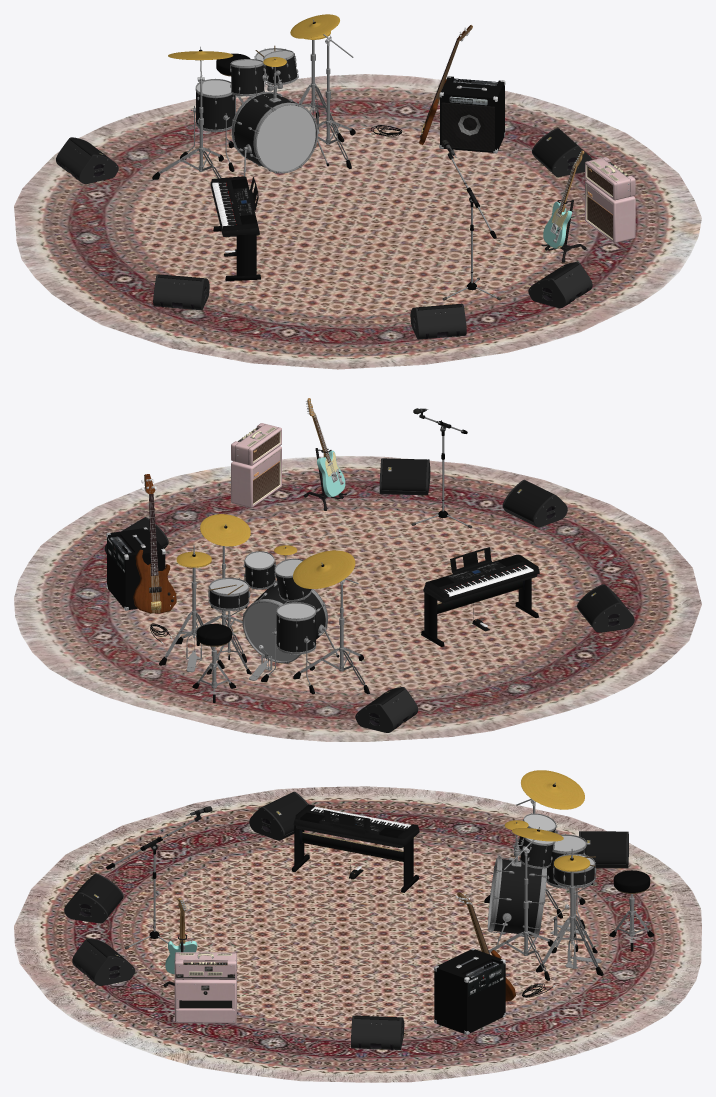
File: stage_resized_1024.glb
3 renders of one model, top to bottom at view 1: azimuth 30°, elevation 25°; view 2: azimuth 150°, elevation 25°; view 3: azimuth 270°, elevation 25°, orthographic. The views are drawn at different scales.
Visible parts, largest first — view 1: Object_2, Amp.HartkeHD75_0, Lid.004_40, Vox_Amp, monitor_speaker_lp_lambert2_0.002, monitor_speaker_lp_lambert2_0.003, monitor_speaker_lp_lambert2_0.001, monitor_speaker_lp, monitor_speaker_lp_lambert2_0.004, Bass_38, Guitar_Telecaster, Tom_Floor_5 (+7 smaller); view 2: Object_2, Vox_Amp, Amp.HartkeHD75_0, Bass.Aria_3, Lid.004_40, monitor_speaker_lp, monitor_speaker_lp_lambert2_0.003, monitor_speaker_lp_lambert2_0.002, monitor_speaker_lp_lambert2_0.001, Cymbal_Ride_8, Cymbal_Crash_14, Tom_Floor_5 (+14 smaller); view 3: Object_2, Amp.HartkeHD75_0, Vox_Amp, Bass_38, monitor_speaker_lp_lambert2_0.002, monitor_speaker_lp, Cymbal_Ride_8, monitor_speaker_lp_lambert2_0.004, monitor_speaker_lp_lambert2_0.001, monitor_speaker_lp_lambert2_0.003, Stand_Middle_low, Lid.004_40 (+10 smaller).
Boxes of the visible parts, bbox=[...] form: Object_2: bbox=[14, 74, 701, 369]; Amp.HartkeHD75_0: bbox=[439, 76, 505, 153]; Lid.004_40: bbox=[231, 91, 317, 173]; Vox_Amp: bbox=[585, 157, 635, 243]; monitor_speaker_lp_lambert2_0.002: bbox=[528, 262, 592, 308]; monitor_speaker_lp_lambert2_0.003: bbox=[56, 137, 118, 183]; monitor_speaker_lp_lambert2_0.001: bbox=[153, 274, 209, 310]; monitor_speaker_lp: bbox=[410, 303, 466, 339]; monitor_speaker_lp_lambert2_0.004: bbox=[532, 128, 592, 177]; Bass_38: bbox=[234, 93, 294, 167]; Guitar_Telecaster: bbox=[543, 150, 584, 248]; Tom_Floor_5: bbox=[196, 92, 235, 129]; Object_2: bbox=[14, 456, 701, 741]; Vox_Amp: bbox=[231, 423, 281, 507]; Amp.HartkeHD75_0: bbox=[106, 527, 165, 610]; Bass.Aria_3: bbox=[133, 474, 176, 613]; Lid.004_40: bbox=[242, 580, 327, 663]; monitor_speaker_lp: bbox=[502, 479, 567, 527]; monitor_speaker_lp_lambert2_0.003: bbox=[355, 687, 418, 732]; monitor_speaker_lp_lambert2_0.002: bbox=[379, 458, 430, 495]; monitor_speaker_lp_lambert2_0.001: bbox=[577, 584, 634, 632]; Cymbal_Ride_8: bbox=[293, 550, 355, 588]; Cymbal_Crash_14: bbox=[200, 514, 250, 546]; Tom_Floor_5: bbox=[276, 614, 315, 652]; Object_2: bbox=[14, 786, 701, 1082]; Amp.HartkeHD75_0: bbox=[434, 948, 505, 1034]; Vox_Amp: bbox=[174, 952, 236, 1023]; Bass_38: bbox=[493, 859, 541, 935]; monitor_speaker_lp_lambert2_0.002: bbox=[72, 938, 135, 985]; monitor_speaker_lp: bbox=[64, 873, 123, 923]; Cymbal_Ride_8: bbox=[521, 770, 584, 809]; monitor_speaker_lp_lambert2_0.004: bbox=[351, 1015, 404, 1049]; monitor_speaker_lp_lambert2_0.001: bbox=[249, 791, 308, 840]; monitor_speaker_lp_lambert2_0.003: bbox=[579, 831, 628, 868]; Stand_Middle_low: bbox=[302, 832, 403, 861]; Lid.004_40: bbox=[487, 858, 546, 936].
Size of the model in its own units: 9.04 by 1.95 by 8.86.
Materials: 24 (19 with a texture image).
